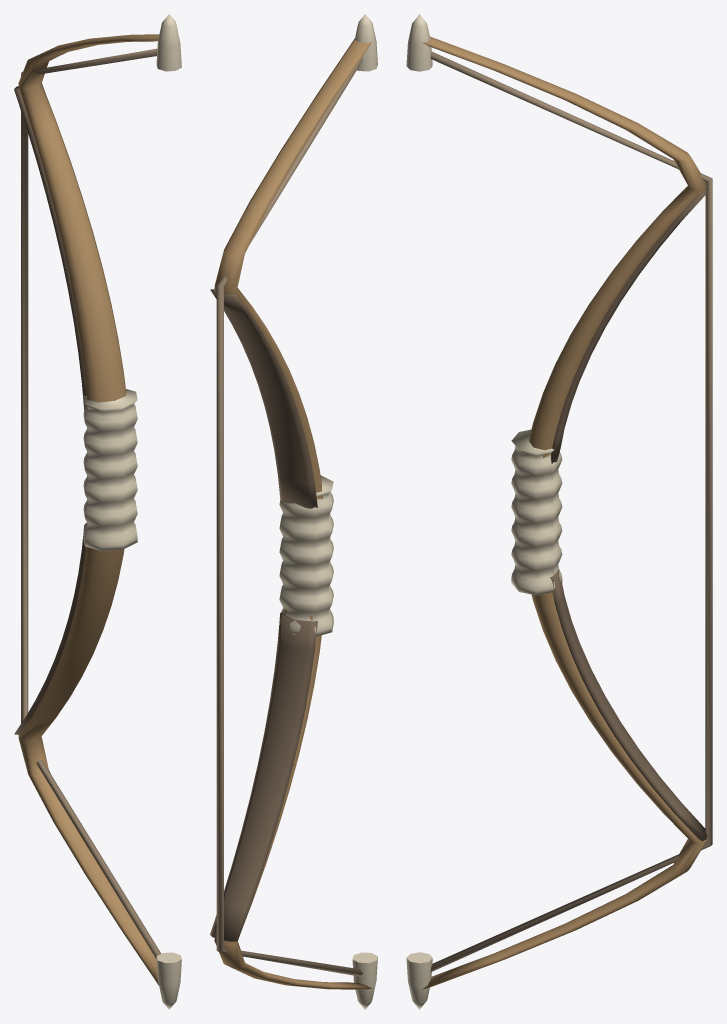
Rendered from horse-bow.glb.
The picture shows the model from 3 angles, left to right: view 1: azimuth 30°, elevation 25°; view 2: azimuth 150°, elevation 25°; view 3: azimuth 270°, elevation 25°; orthographic projection.
Visible parts, largest first — view 1: horse-bow; view 2: horse-bow; view 3: horse-bow.
Part boxes in pixels (<box>): horse-bow: <box>14,14,181,1009</box>; horse-bow: <box>210,14,377,1009</box>; horse-bow: <box>406,14,712,1009</box>.
Bounding box in the file's own units: 0.1133 × 2.1 × 0.585.
